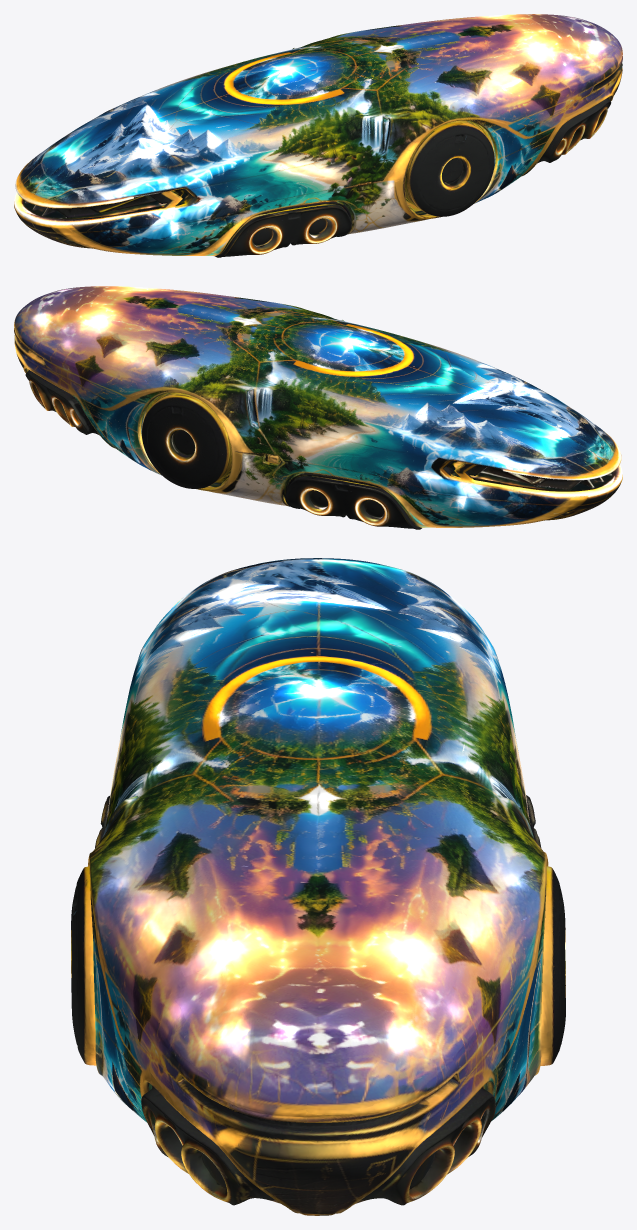
Rendered from starpod_worlds_v1.glb.
The picture shows the model from 3 angles, top to bottom: view 1: azimuth 30°, elevation 25°; view 2: azimuth 150°, elevation 25°; view 3: azimuth 270°, elevation 25°; orthographic projection. The views are drawn at different scales.
Bounding box in the file's own units: 1.9 × 0.4242 × 0.6891.
Materials: 1 (1 with a texture image).
